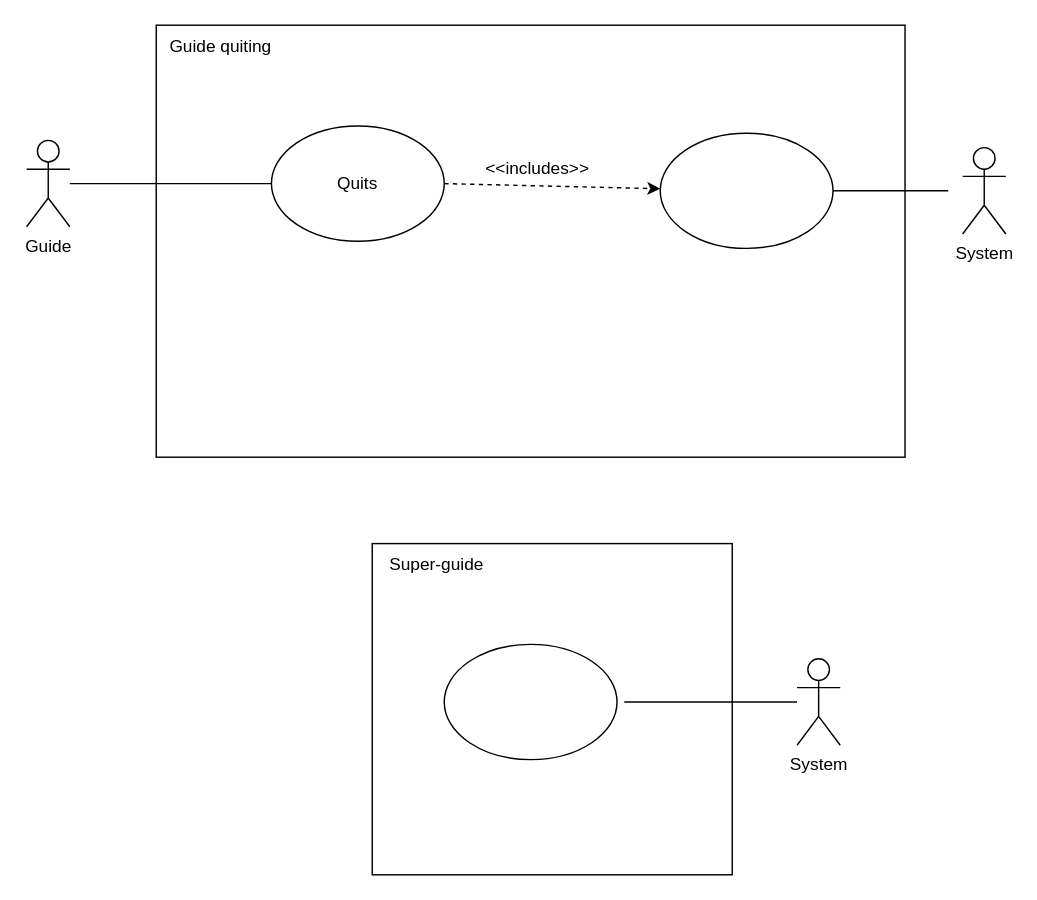
Image size: 1037x900. Some labels were removed from this diagram. The shapes that lost their labels are listed below. From the top down, each one's centre as x and y in pixels, then its label:
At (746,190): "Makes voucher for tourist".
At (530,701): "Making super-guide".
